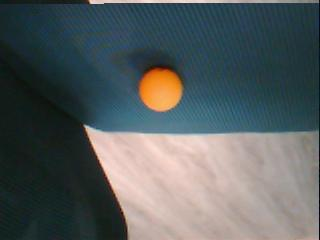oball: (139, 67, 182, 111)
